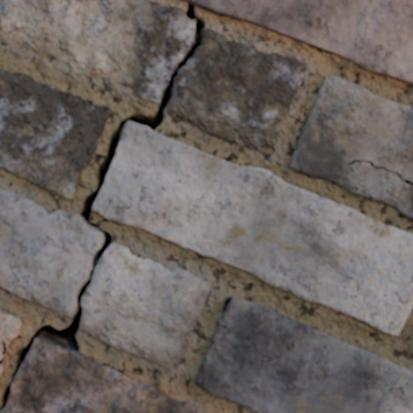brick: (93, 123, 412, 334), (195, 296, 412, 412), (186, 0, 412, 83), (289, 77, 412, 220), (0, 339, 204, 412), (0, 69, 111, 198), (0, 311, 20, 358)
broken_brick: (0, 0, 194, 104), (166, 27, 306, 154), (79, 242, 211, 372), (0, 188, 101, 318)
crack: (0, 2, 205, 410), (347, 159, 412, 185), (174, 116, 196, 126), (221, 315, 230, 334), (0, 340, 6, 367), (151, 360, 160, 365)
